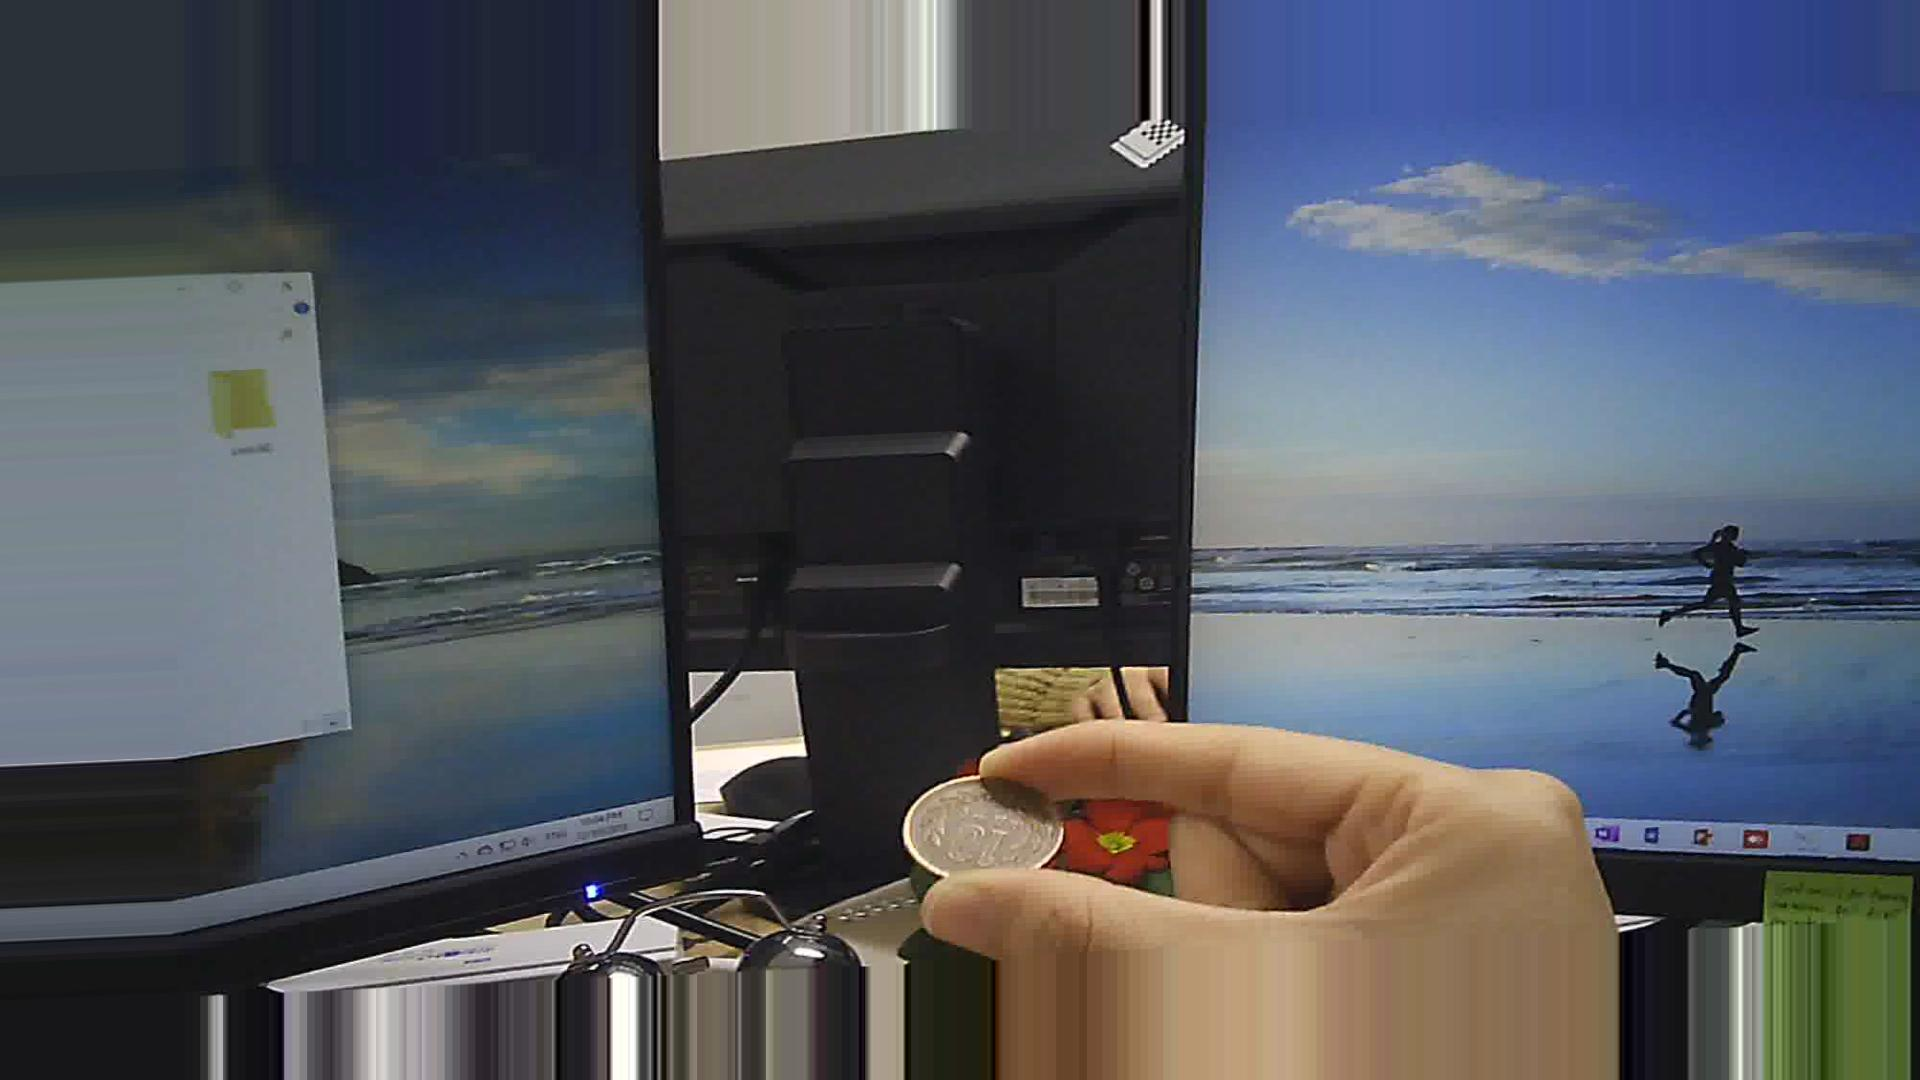10 Yen: (891, 767, 1081, 891)
